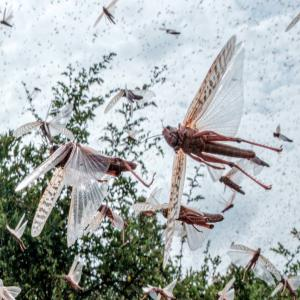locust: (161, 41, 273, 179), (46, 121, 145, 230)
